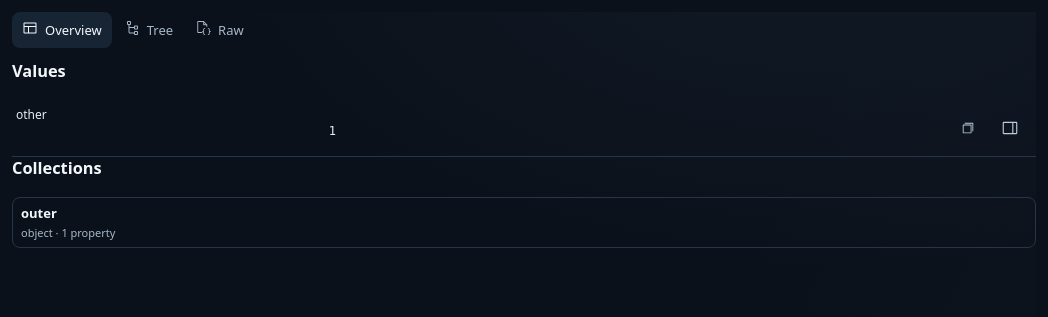
Test: exploring a previously unseen result › always provides a tree, and searches names and values in it
Click the tab "Tree".
click(148, 30)  # box [114, 12, 183, 48]
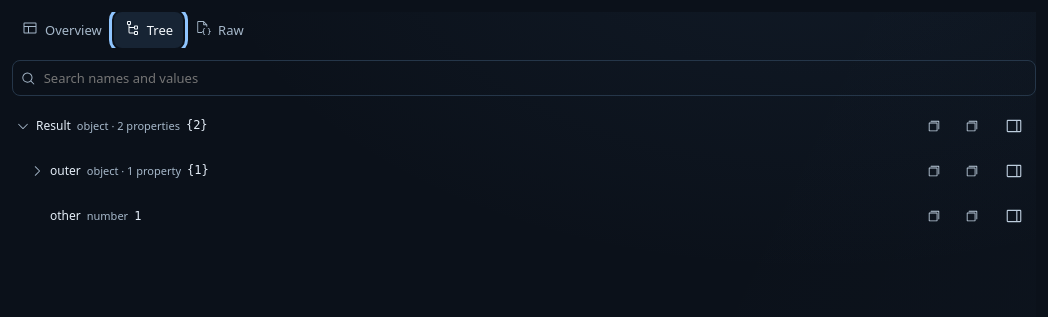
Now the button "outer object · 1 property {1}" is shown, box [26, 155, 912, 187]
Type "findme" into the search field named "Search property names".
click(534, 78); type("findme")  # box [42, 61, 1027, 95]
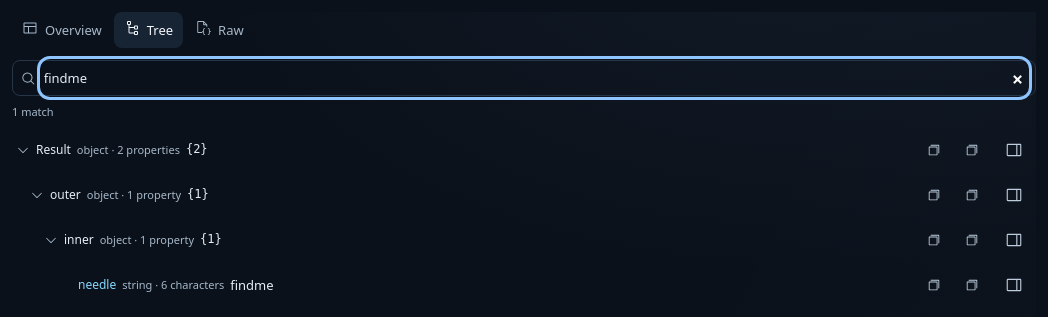
Now the text "1 match" is shown, box [12, 104, 54, 119]
Now the button "needle string · 6 characters findme" is shown, box [54, 269, 912, 301]
Now the button "other" is gone
